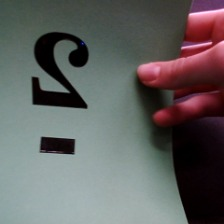green2: (27, 30, 96, 157)
